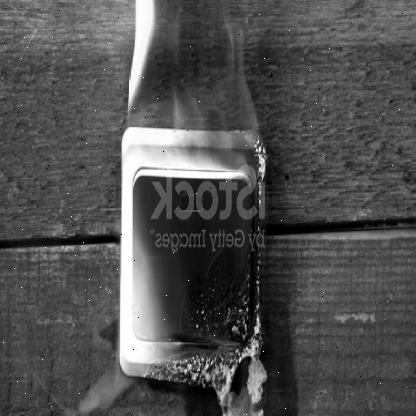fire: (138, 9, 268, 174), (120, 0, 181, 116)
